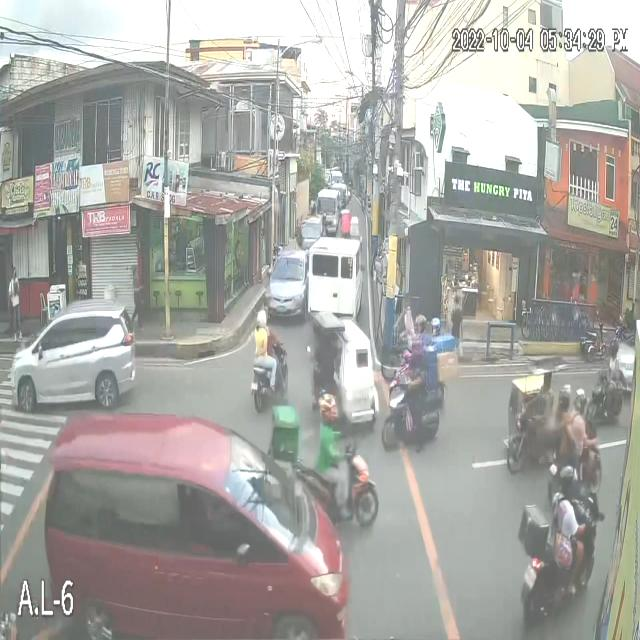Full-Faced: (315, 384, 340, 424), (556, 464, 580, 496), (570, 377, 589, 415), (556, 379, 574, 413), (252, 307, 270, 336), (606, 331, 622, 361), (411, 312, 428, 338), (252, 351, 270, 371), (426, 313, 442, 335)
